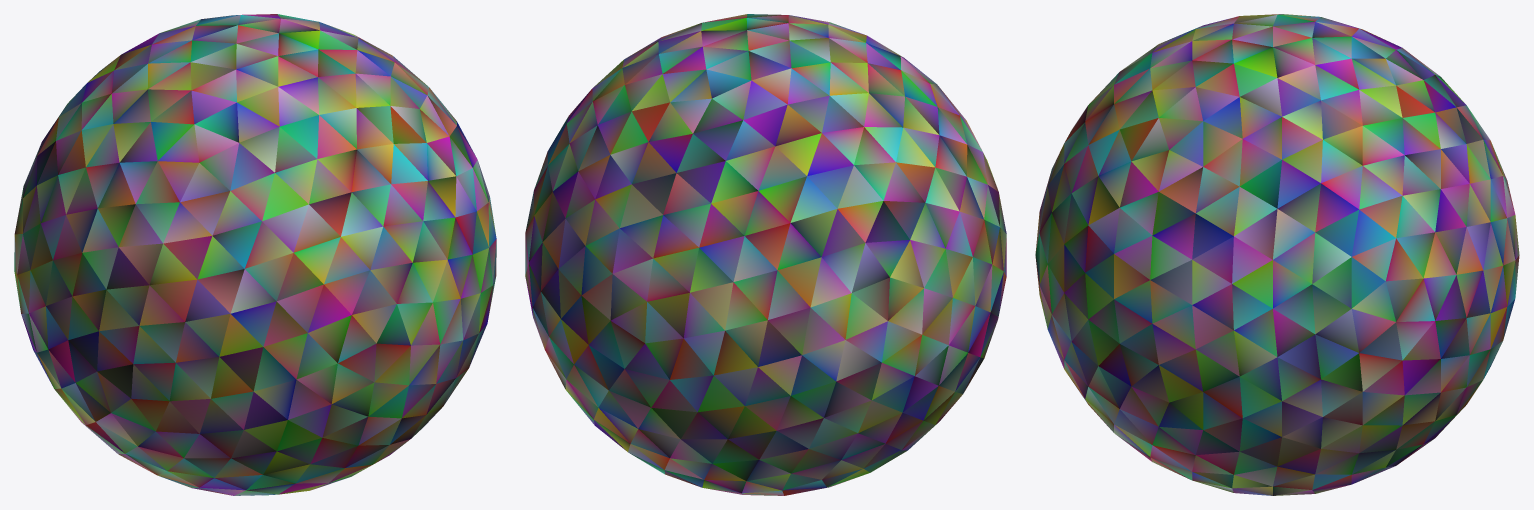
The picture shows the model from 3 angles, left to right: view 1: azimuth 30°, elevation 25°; view 2: azimuth 150°, elevation 25°; view 3: azimuth 270°, elevation 25°; orthographic projection.
Visible parts, largest first — view 1: node; view 2: node; view 3: node.
Boxes of the visible parts, <box> form: node: <box>14,14,496,495</box>; node: <box>525,14,1006,495</box>; node: <box>1035,14,1519,495</box>.
Size of the model in its own units: 2 by 1.99 by 2.
